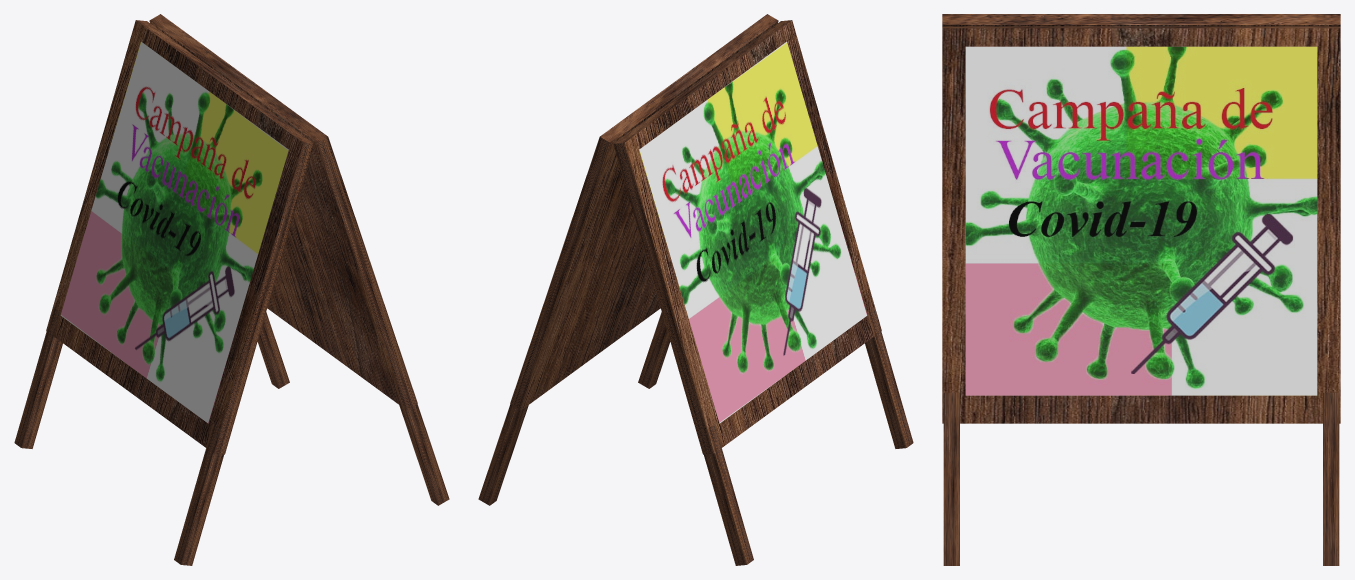
Rendered from SignFloor.obj.
3 renders of one model, left to right at view 1: azimuth 30°, elevation 25°; view 2: azimuth 150°, elevation 25°; view 3: azimuth 270°, elevation 25°, orthographic. The views are drawn at different scales.
Visible parts, largest first — view 1: Papel_Plano, Cartel_Cube.005; view 2: Papel_Plano, Cartel_Cube.005; view 3: Papel.001_Plano.002, Cartel_Cube.005.
Part boxes in pixels (x1,y1,x2,y2): Papel_Plano: (60,41,288,423); Cartel_Cube.005: (14,14,449,565); Papel_Plano: (639,41,867,423); Cartel_Cube.005: (478,14,913,565); Papel.001_Plano.002: (965,46,1317,395); Cartel_Cube.005: (942,14,1340,565).
Size of the model in its own units: 1.26 by 1.78 by 1.36.
